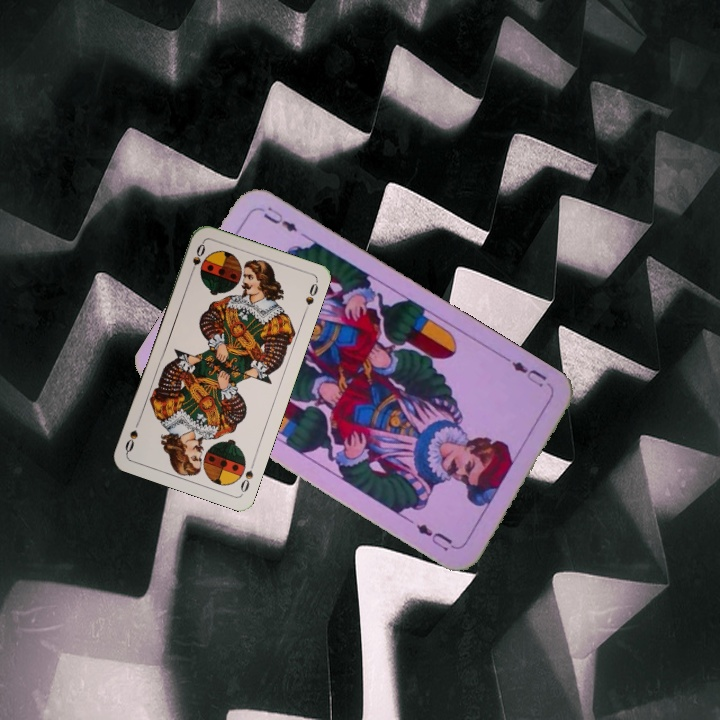EU: (502, 354, 550, 390)
SO: (186, 239, 208, 278), (236, 456, 257, 495)
